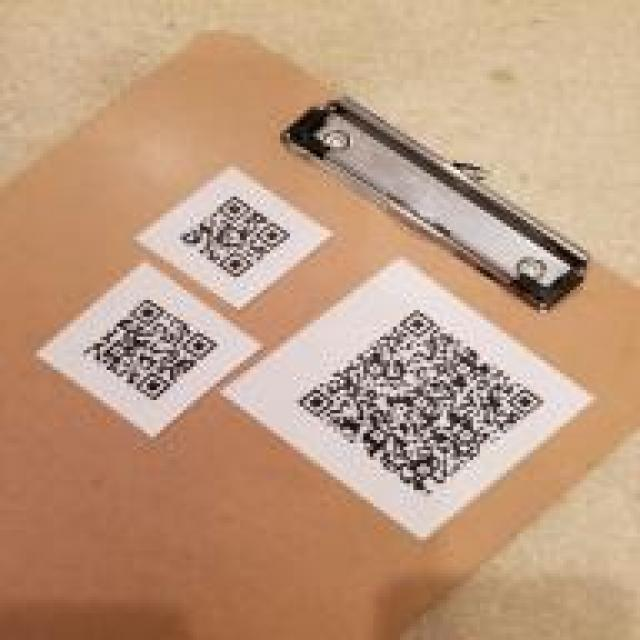qr_code: (297, 310, 545, 496), (83, 300, 219, 401), (180, 196, 290, 278)
